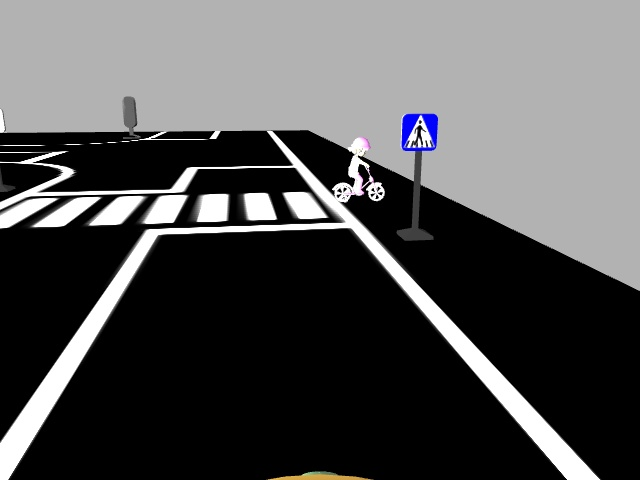Crosswalk: (399, 112, 439, 150)
Pedestrian: (321, 129, 389, 204)
